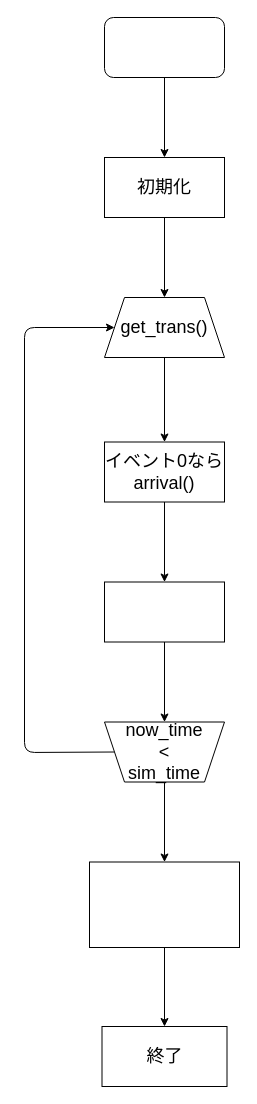
Some shapes in this 257 by 1104 pixel diagram are drawn without their labels. The shapes that lost their labels are listed below. From the top down, each one's centre as x and y in pixels, then its label:
At (164,47): "開始".
At (164,611): "イベント1なら service_cmp()".
At (164,904): "溢れ率 待ち行列長の分布を表示".
